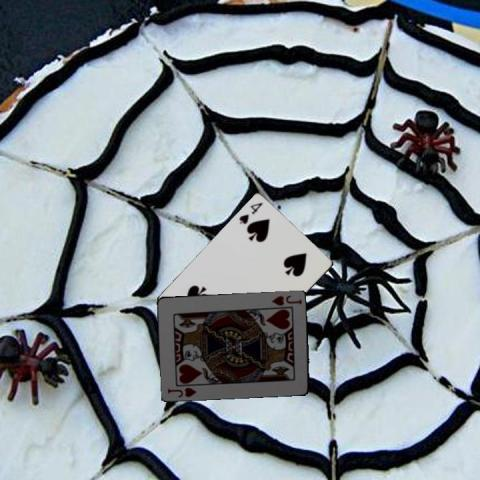4s: (236, 200, 264, 226)
Jh: (270, 292, 304, 307), (165, 384, 198, 399)
